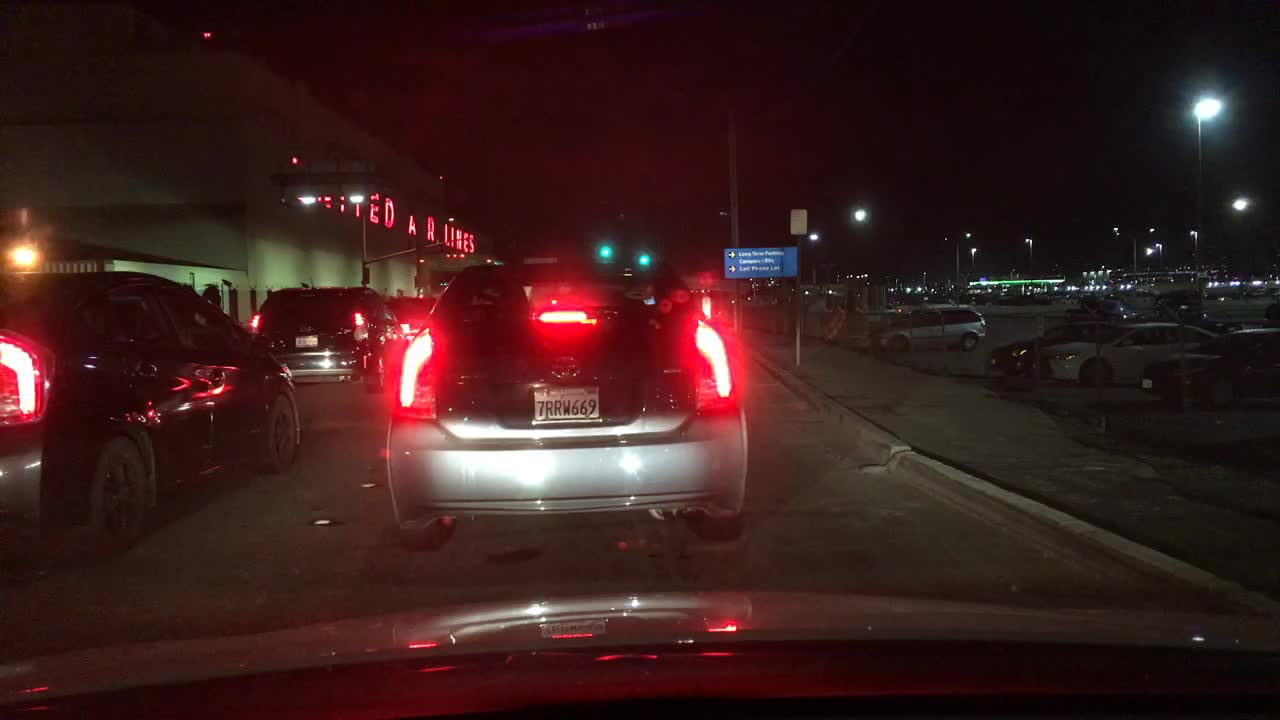car: (383, 255, 748, 542), (2, 270, 303, 556), (252, 285, 391, 389), (1036, 323, 1217, 383), (1145, 325, 1275, 405), (981, 320, 1110, 376), (870, 303, 990, 351), (394, 296, 434, 359), (1148, 289, 1206, 327), (1076, 290, 1136, 322)
traffic light: (636, 242, 653, 270), (596, 237, 613, 264)
traffic sign: (723, 247, 796, 279), (789, 208, 809, 234)
